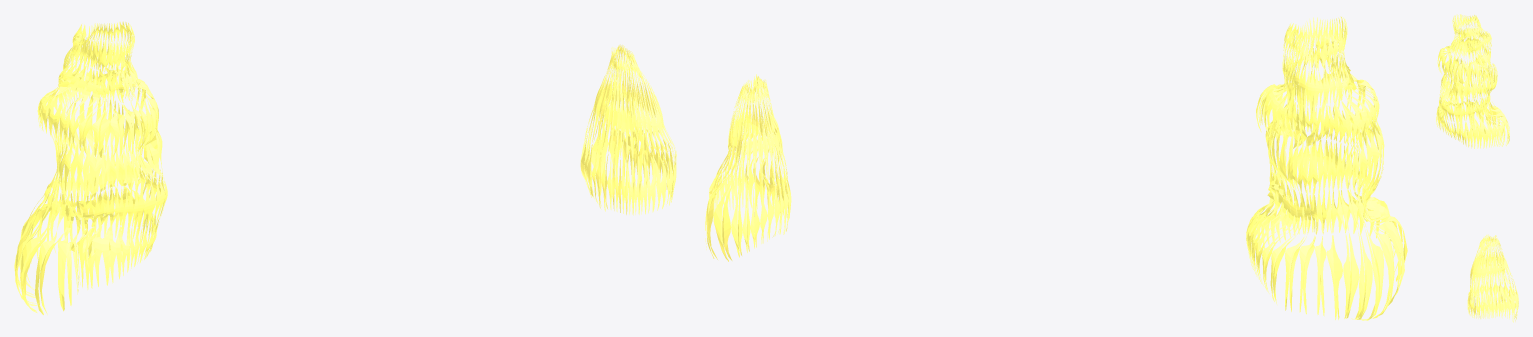
The model's file is mountains.glb.
3 views of the same model, side by side, from view 1: azimuth 30°, elevation 25°; view 2: azimuth 150°, elevation 25°; view 3: azimuth 270°, elevation 25° (orthographic). The views are drawn at different scales.
Visible parts, largest first — view 1: Tessellation.004, Tessellation; view 2: Tessellation.004, Tessellation; view 3: Tessellation.004, Tessellation.
Boxes of the visible parts, <box> form: Tessellation.004: <box>14,21,167,314</box>; Tessellation: <box>580,44,676,215</box>; Tessellation.004: <box>1246,16,1407,320</box>; Tessellation: <box>705,74,791,261</box>; Tessellation.004: <box>1436,14,1509,148</box>; Tessellation: <box>1467,234,1518,322</box>.
Size of the model in its own units: 659 by 323 by 142.
